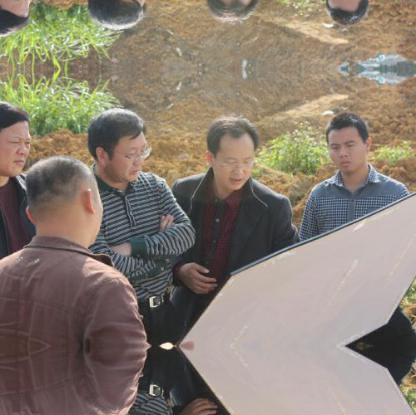No Safety Helmet: (22, 150, 113, 254), (85, 105, 160, 184), (200, 110, 268, 196), (319, 108, 378, 186), (1, 96, 37, 178)
